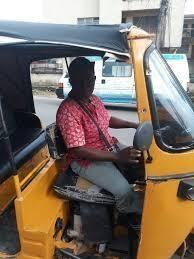keke: (0, 17, 194, 258)
